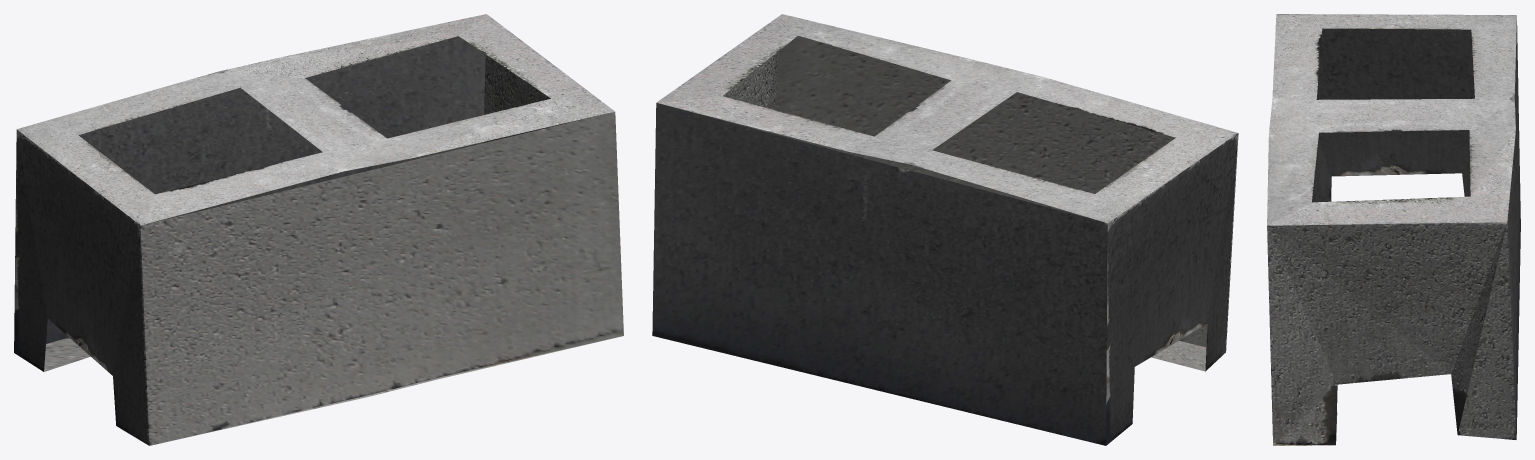
Rendered from block.fbx.
The picture shows the model from 3 angles, left to right: view 1: azimuth 30°, elevation 25°; view 2: azimuth 150°, elevation 25°; view 3: azimuth 270°, elevation 25°; orthographic projection. The views are drawn at different scales.
Parts seen in each view (by area): view 1: cinderblock:Default; view 2: cinderblock:Default; view 3: cinderblock:Default.
Part boxes in pixels (x1=…): cinderblock:Default: x1=14, y1=14, x2=623, y2=445; cinderblock:Default: x1=652, y1=14, x2=1238, y2=445; cinderblock:Default: x1=1267, y1=14, x2=1520, y2=445.
Bounding box in the file's own units: 2.04 × 0.9608 × 0.9948.
